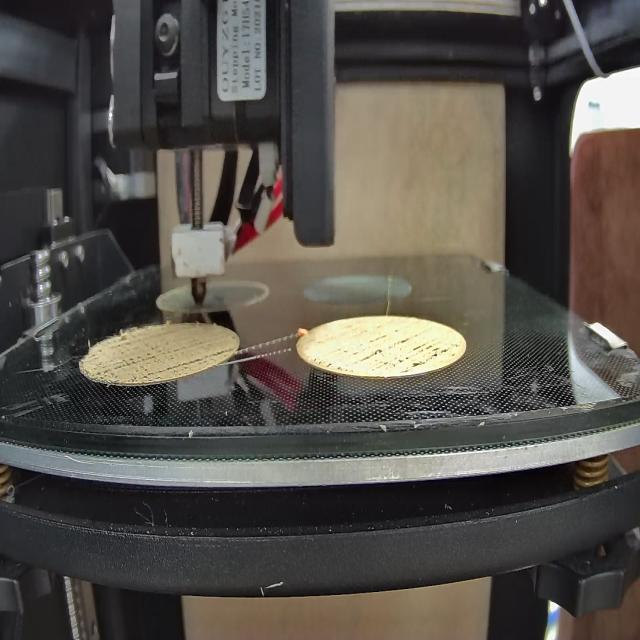under_extrusion: (91, 330, 236, 376), (314, 334, 456, 373)
